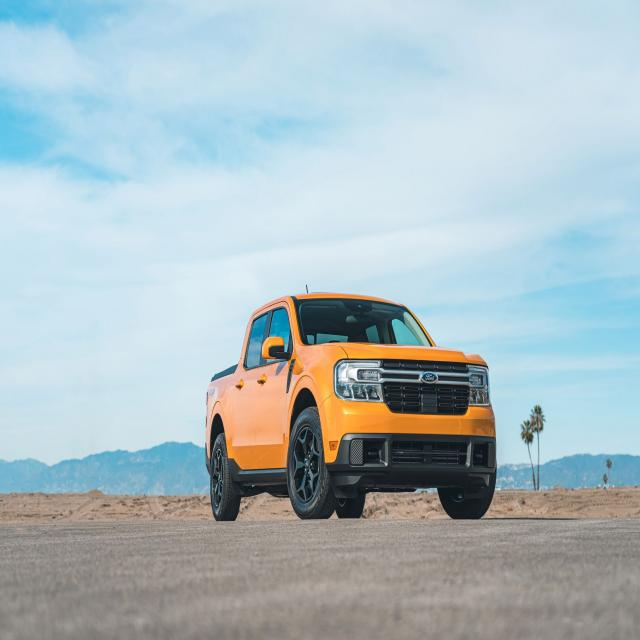truck: (186, 240, 514, 568)
